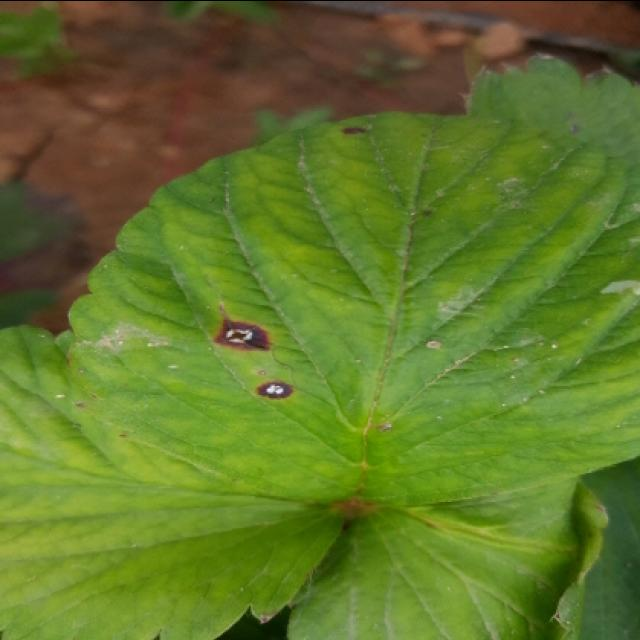Leaf Spot: (67, 110, 638, 506)
